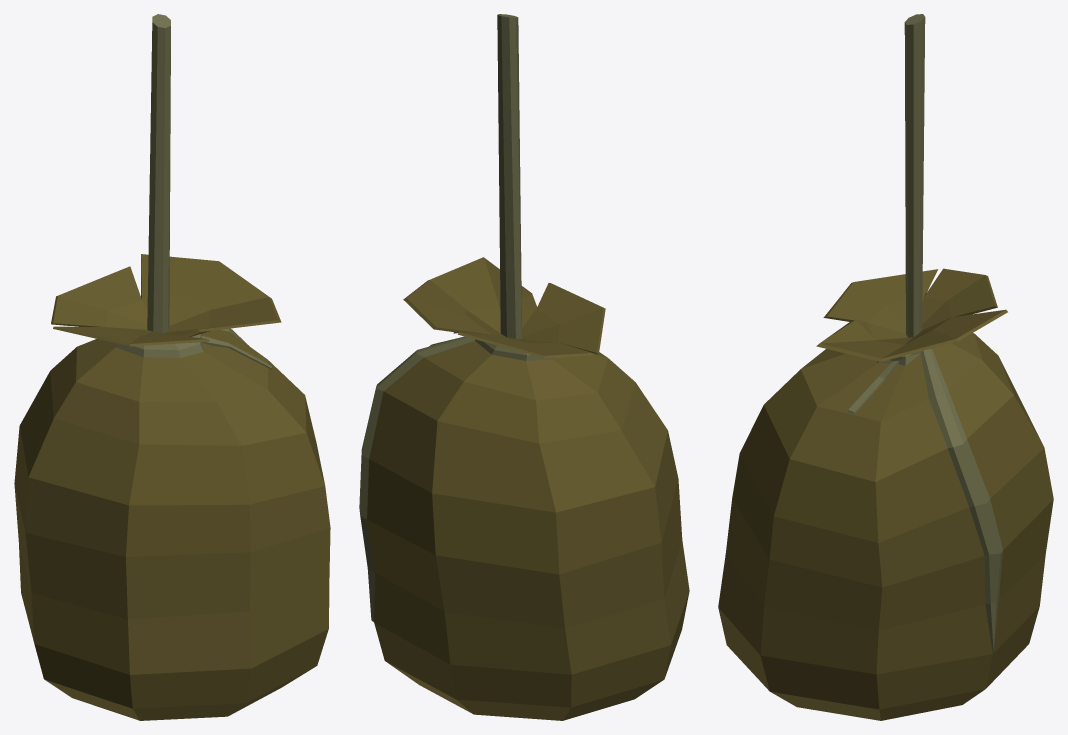
The model's file is Bag on rope Asia.fbx.
3 views of the same model, side by side, from view 1: azimuth 30°, elevation 25°; view 2: azimuth 150°, elevation 25°; view 3: azimuth 270°, elevation 25° (orthographic). The views are drawn at different scales.
Parts seen in each view (by area): view 1: Bag on rope; view 2: Bag on rope; view 3: Bag on rope.
Part boxes in pixels (left/top/right/bottom): Bag on rope: left=14, top=14, right=330, bottom=720; Bag on rope: left=359, top=14, right=689, bottom=720; Bag on rope: left=718, top=14, right=1053, bottom=720.
Size of the model in its own units: 0.271 by 0.6048 by 0.2732.
